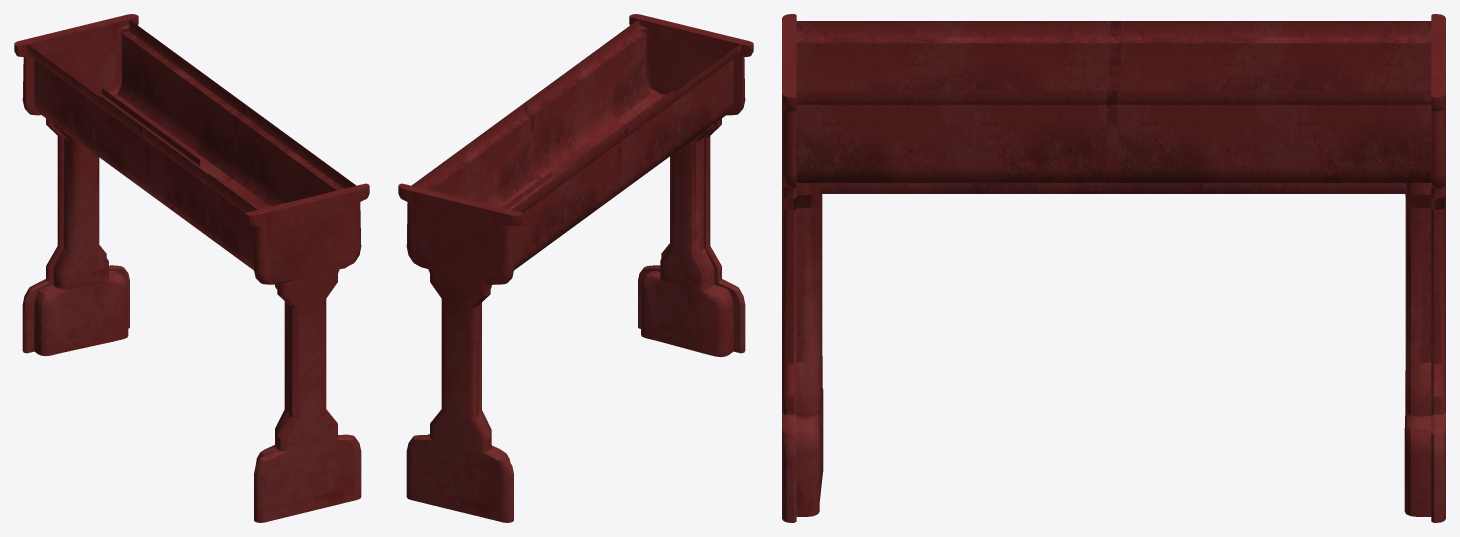
The model's file is double_door_frame.gltf.
3 views of the same model, side by side, from view 1: azimuth 30°, elevation 25°; view 2: azimuth 150°, elevation 25°; view 3: azimuth 270°, elevation 25° (orthographic). The views are drawn at different scales.
Visible parts, largest first — view 1: Plane.283; view 2: Plane.283; view 3: Plane.283.
Part boxes in pixels (x1,y1,x2,y2): Plane.283: [14, 14, 369, 522]; Plane.283: [398, 14, 753, 522]; Plane.283: [782, 14, 1445, 522].
Bounding box in the file's own units: 1.25 × 3 × 4.19.
